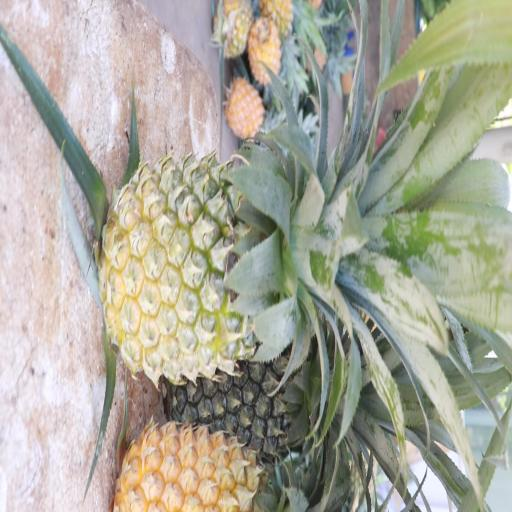------------------------------: (100, 156, 330, 383)
Pineapple - v8 v1: (117, 412, 289, 512), (246, 10, 284, 84), (225, 73, 265, 135), (210, 0, 251, 59)
